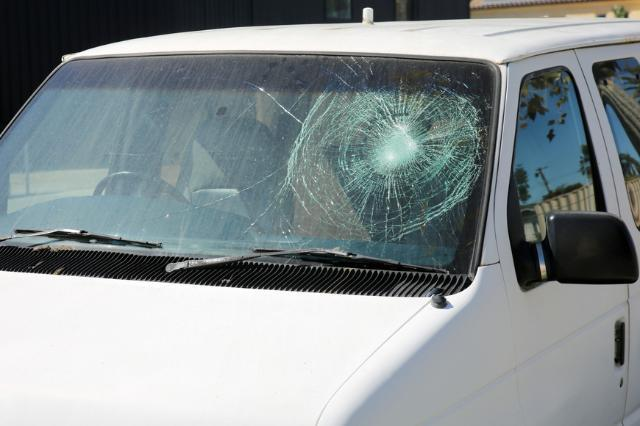Windshield: (7, 67, 469, 277)
